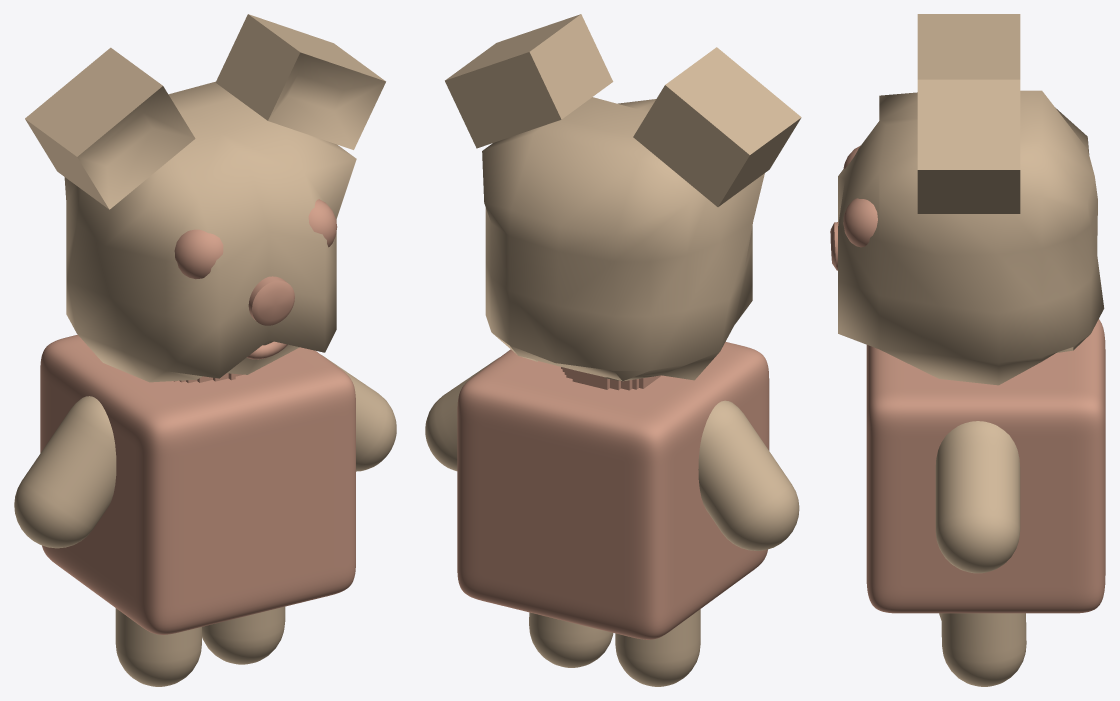
File: character.fbx
The picture shows the model from 3 angles, left to right: view 1: azimuth 30°, elevation 25°; view 2: azimuth 150°, elevation 25°; view 3: azimuth 270°, elevation 25°; orthographic projection.
Parts seen in each view (by area): view 1: Cube_2, Cube, Capsule_2, Capsule_1, Capsule, Capsule_3, Sphere_1, Cylinder, Sphere; view 2: Cube_2, Cube, Capsule_2, Capsule_1, Capsule, Capsule_3; view 3: Cube_2, Cube, Capsule_3, Capsule, Sphere.
Boxes of the visible parts, <box> form: Cube_2: <box>25,14,385,382</box>; Cube: <box>40,334,355,634</box>; Capsule_2: <box>14,396,116,548</box>; Capsule_1: <box>115,608,201,686</box>; Capsule: <box>202,606,285,664</box>; Capsule_3: <box>322,355,396,471</box>; Sphere_1: <box>174,229,223,279</box>; Cylinder: <box>248,276,294,325</box>; Sphere: <box>308,199,337,247</box>; Cube_2: <box>445,14,801,381</box>; Cube: <box>457,342,769,639</box>; Capsule_2: <box>698,400,799,550</box>; Capsule_1: <box>615,609,700,686</box>; Capsule: <box>529,612,613,667</box>; Capsule_3: <box>425,358,498,471</box>; Cube_2: <box>838,14,1104,385</box>; Cube: <box>866,319,1105,613</box>; Capsule_3: <box>935,421,1020,573</box>; Capsule: <box>941,613,1026,686</box>; Sphere: <box>843,198,877,247</box>.
Size of the model in its own units: 350 by 568 by 230.
